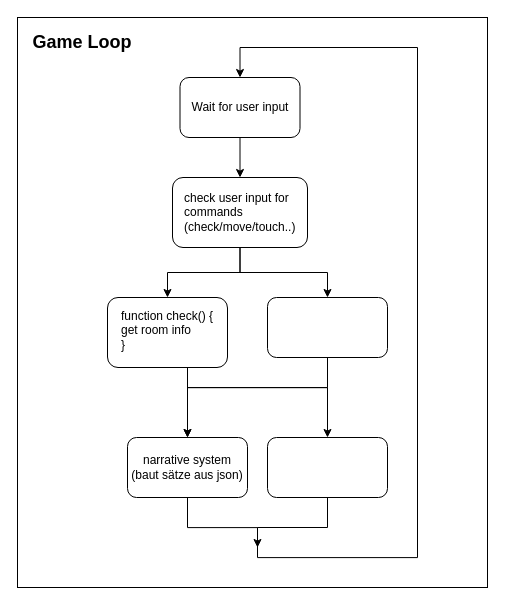
Image size: 505x605. Some labels were removed from this diagram. The shapes that lost their labels are listed below. From the top down, each one's centre as x and y in pixels, then its label:
the point at 327,327: other functions
the point at 327,467: Kampfsystem (loop)
